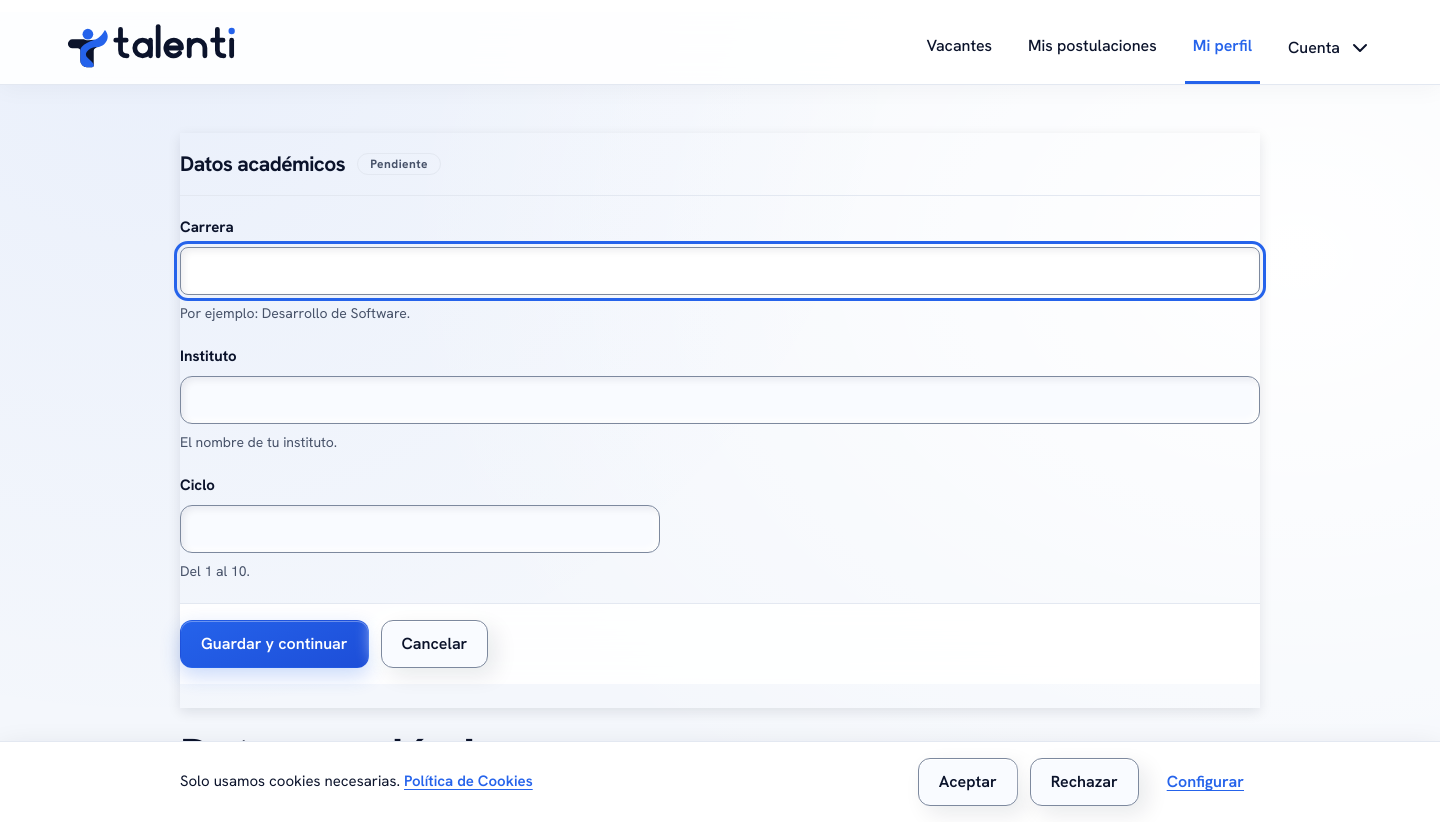
Scenario: Private page (006-14) › a session that expires while saving leads to /ingresar with "Tu sesión expiró" (006-19)
Type "Desarrollo" into the field labelled "Carrera" at (720, 271), box [180,247,1260,295]
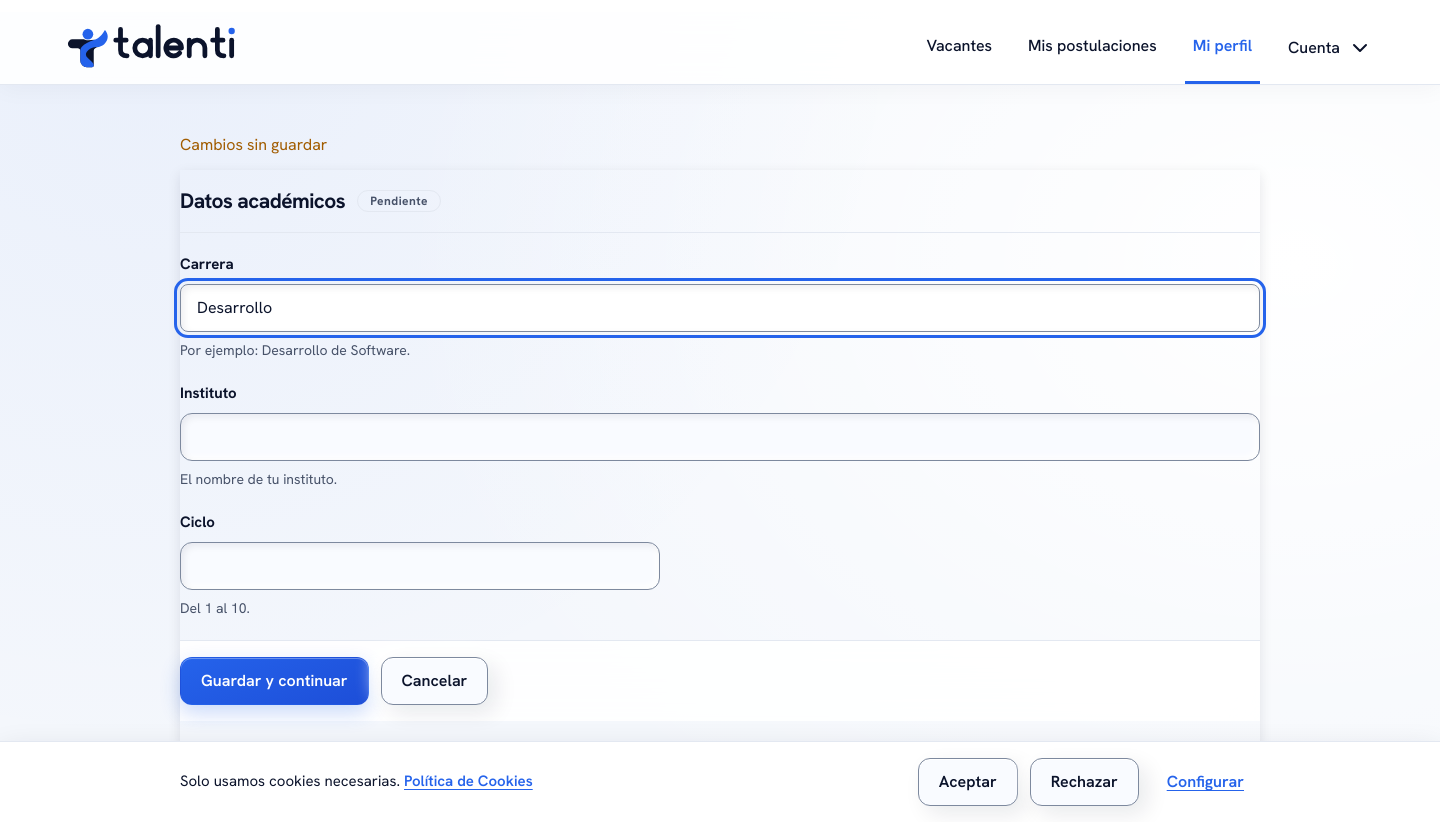
Click the button "Guardar y continuar" at (274, 681), box [180,657,368,705]
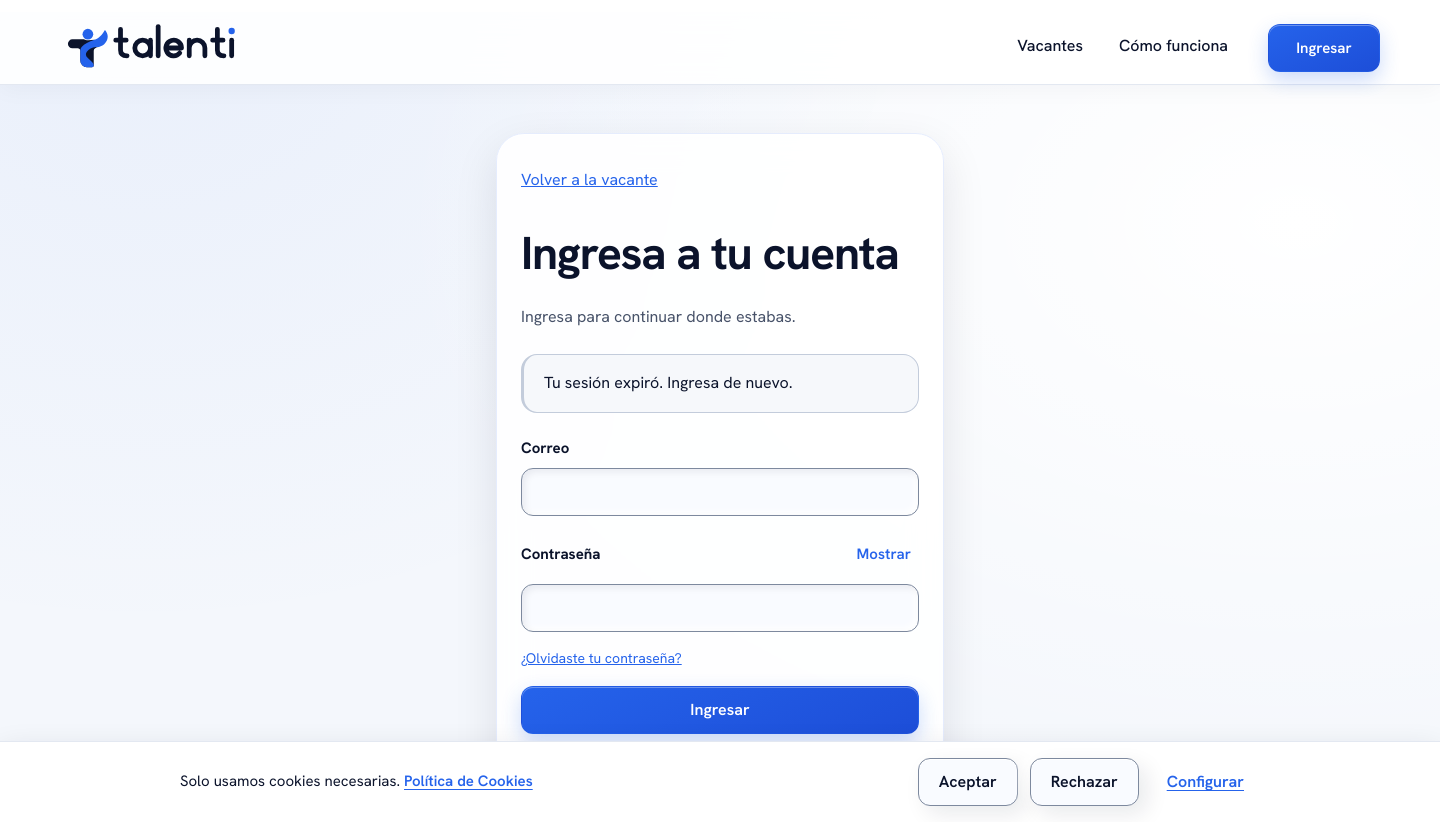
Expected: the heading "Ingresa a tu cuenta" is shown, [521,226,919,281]
Expected: the text "Tu sesión expiró. Ingresa de nuevo." is shown, [544,372,793,393]
